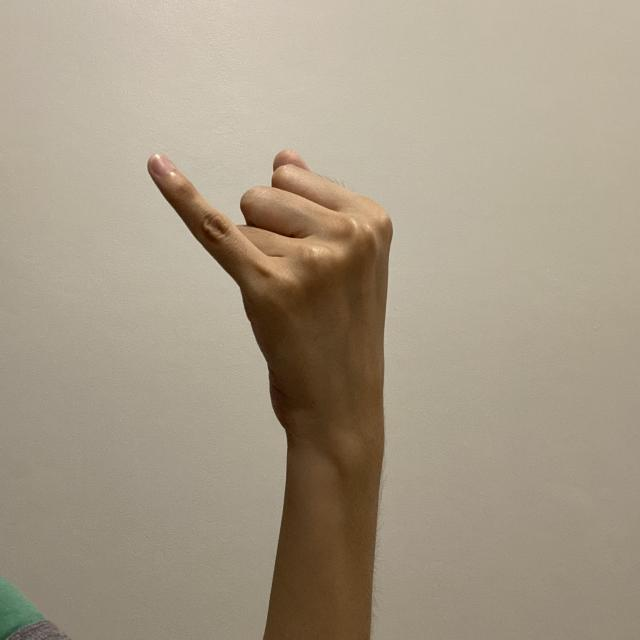J: (144, 146, 398, 474)
